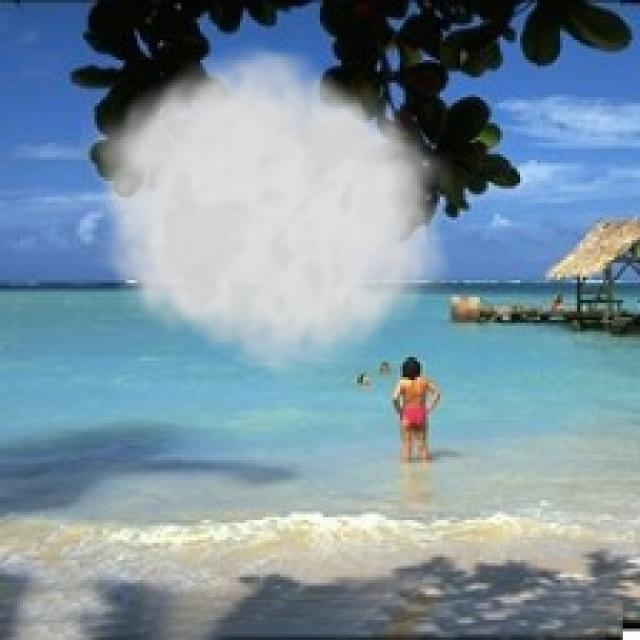Smoke: (80, 37, 454, 389)
